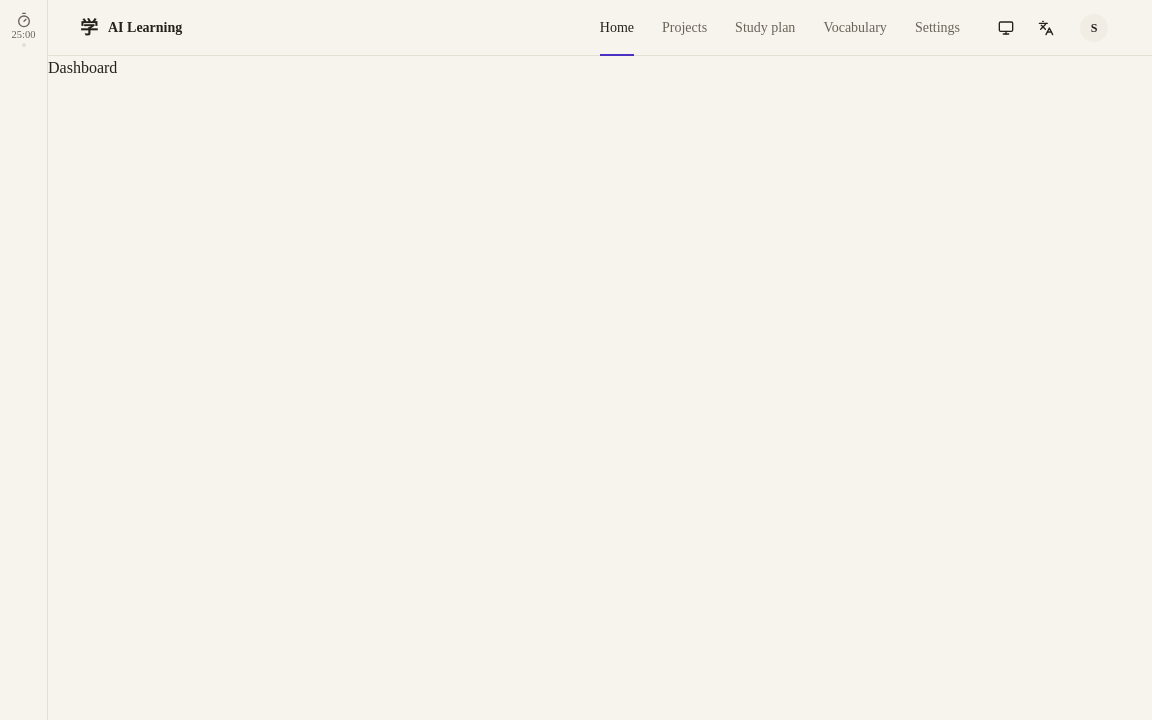
Test: pomodoro dock › is shown on ordinary pages and opens its panel
The width and height of the screenshot is (1152, 720).
Click the button "25:00".
click(24, 29)  # box [2,6,46,52]
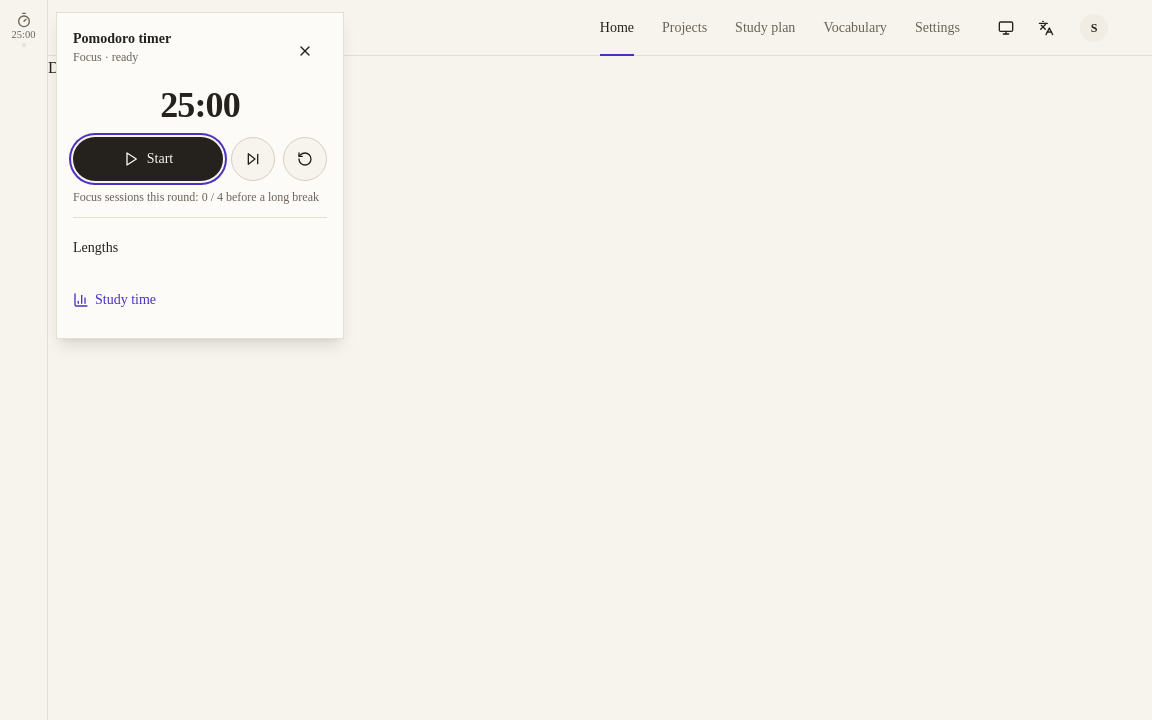
Click the button "Start".
click(148, 159)  # box [73,137,223,181]
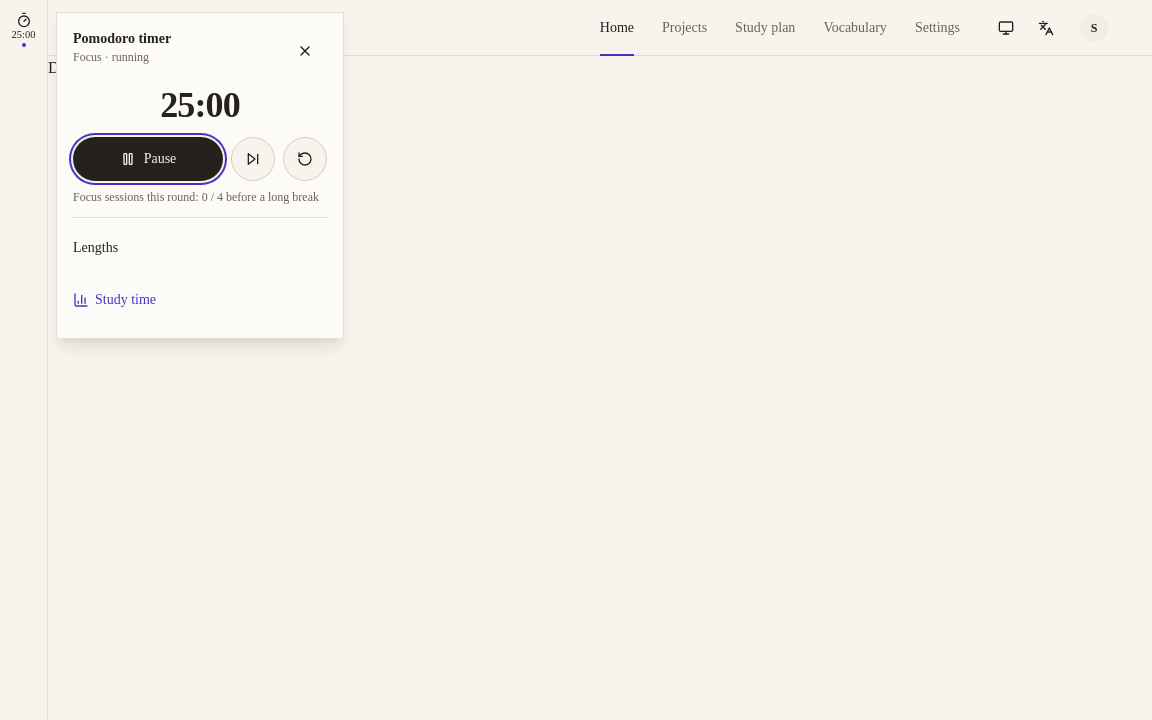
Press Escape
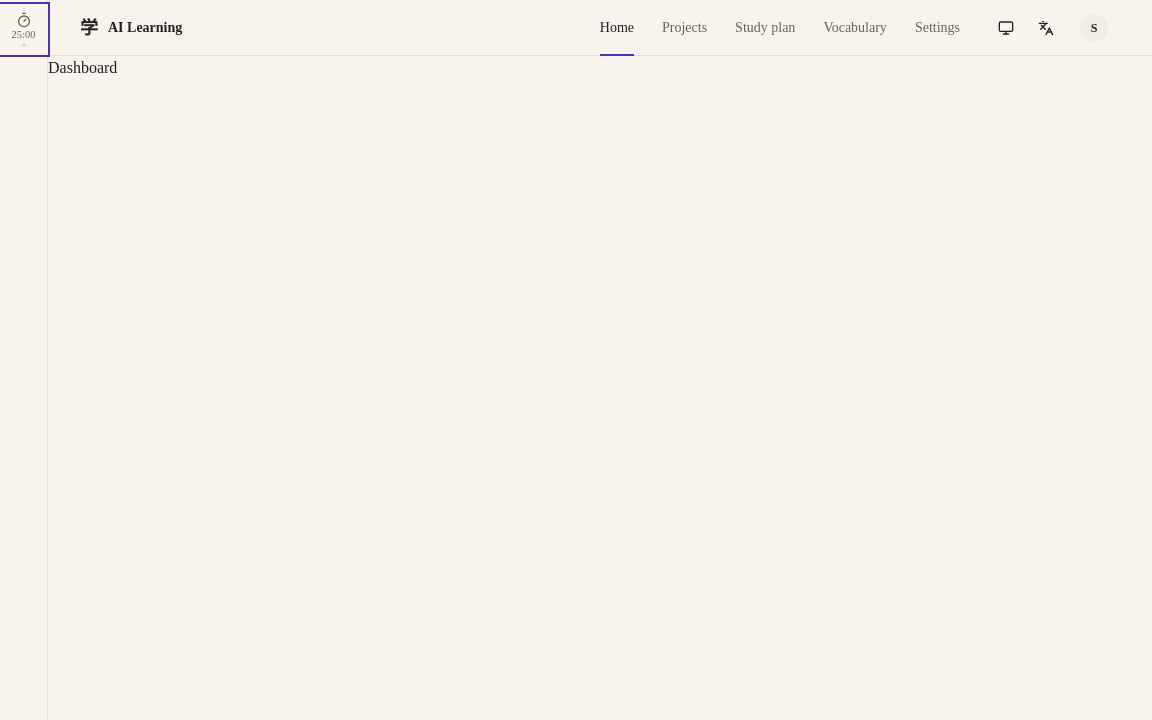
Result: the heading "Pomodoro timer" is gone
